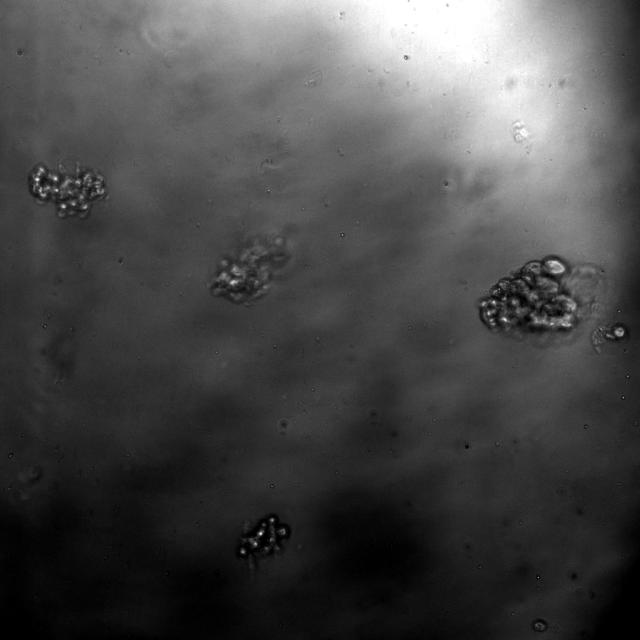organoid: (479, 255, 606, 346), (209, 234, 289, 304), (28, 155, 107, 217), (236, 514, 291, 570), (591, 323, 628, 353), (512, 121, 529, 142), (531, 618, 548, 632)
